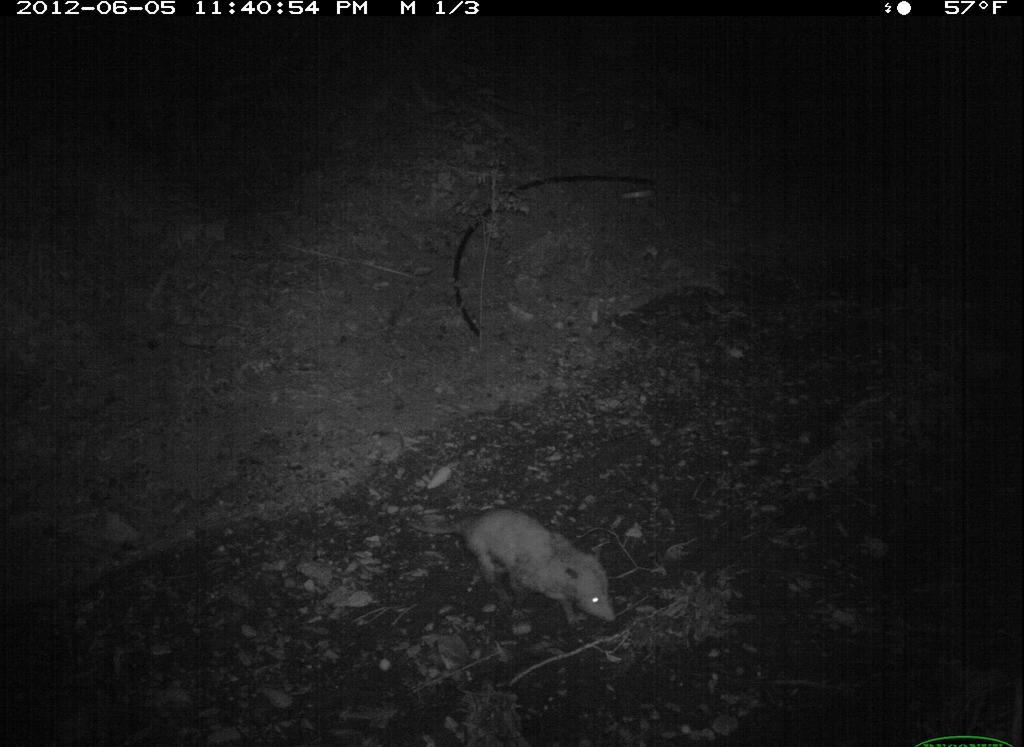opossum: (404, 502, 623, 639)
